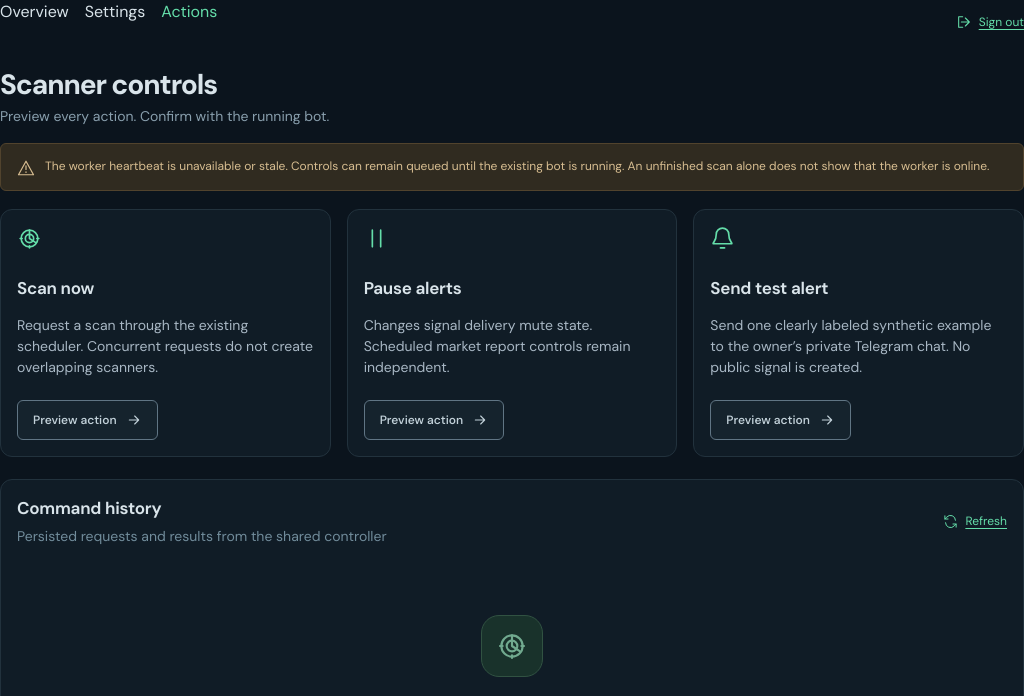
shows worker validation failures and removes the consumed preview
This screenshot has width=1024, height=696.
Check: the heading "Scanner controls" is shown, box [0,66,217,103]
Click the button "Preview action" below "Scan now" at (87, 420), box [17,400,158,440]
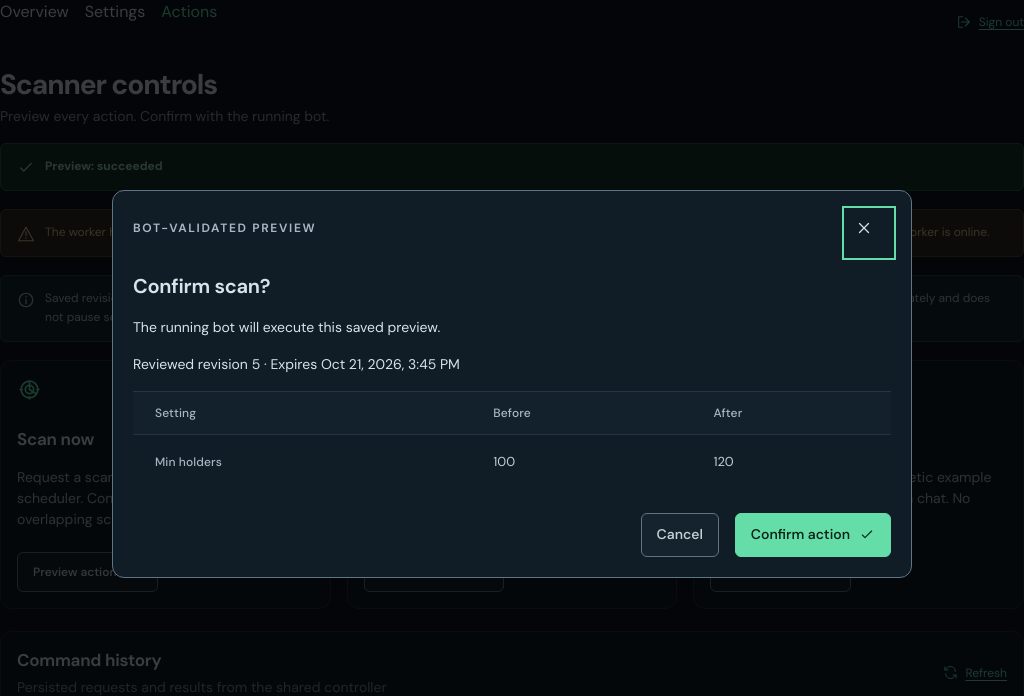
Click the button "Confirm action" at (813, 535), box [735,513,891,557]
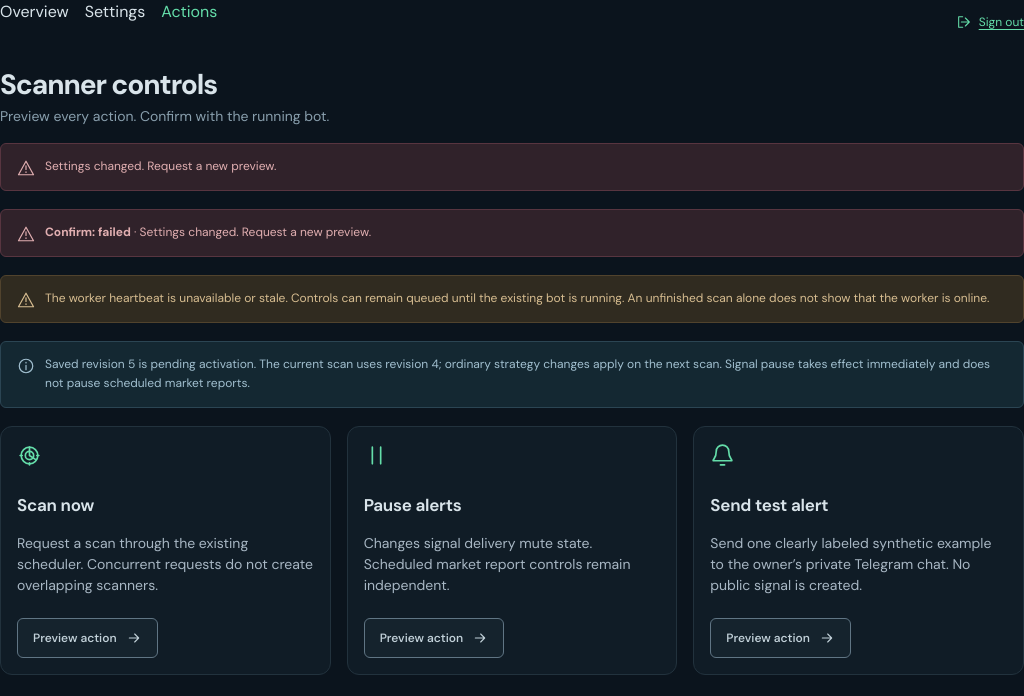
Check: the text "Settings changed. Request a new preview." is shown, box [45,157,276,177]
Check: the dialog is gone
